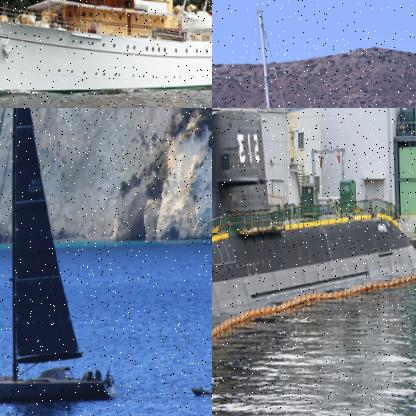Sails Boat: (0, 108, 117, 407), (212, 0, 354, 107)
Submarine: (212, 108, 415, 337)
Yacht: (0, 0, 211, 98)
